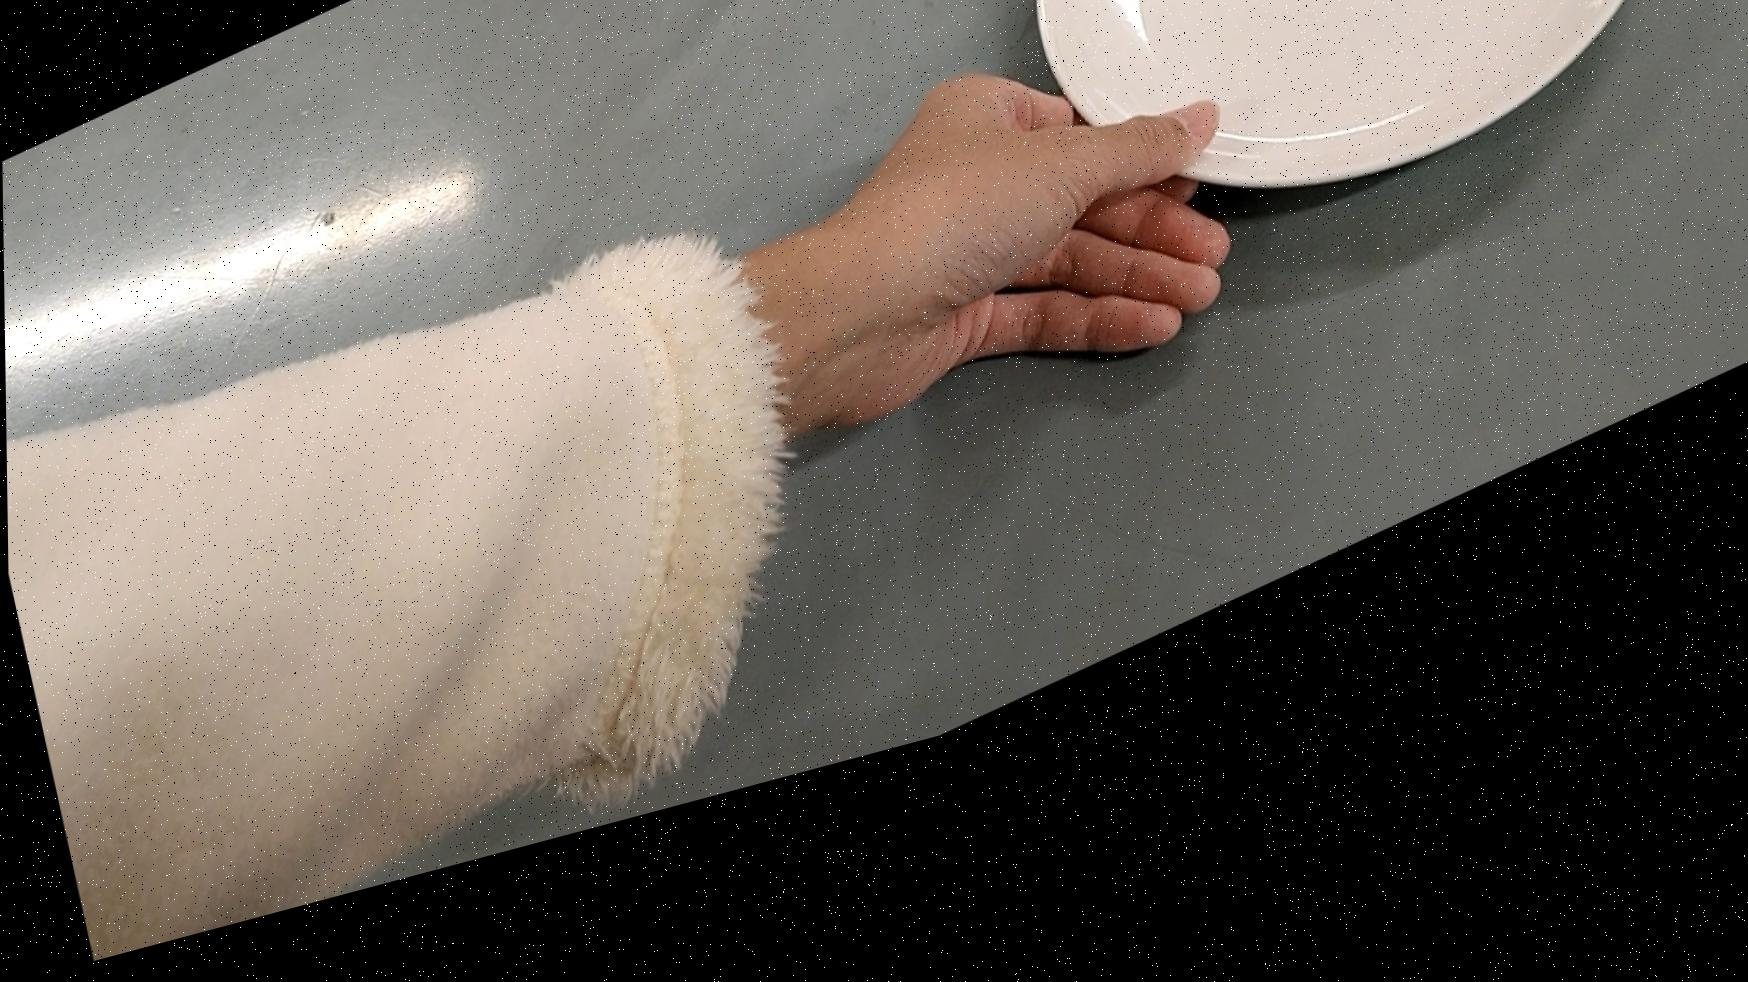plate: (995, 0, 1706, 390)
